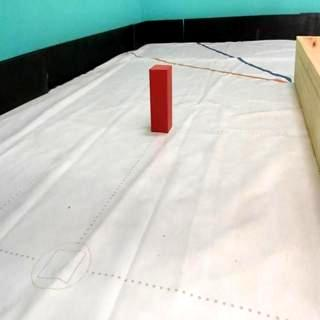redbox: (148, 64, 172, 134)
